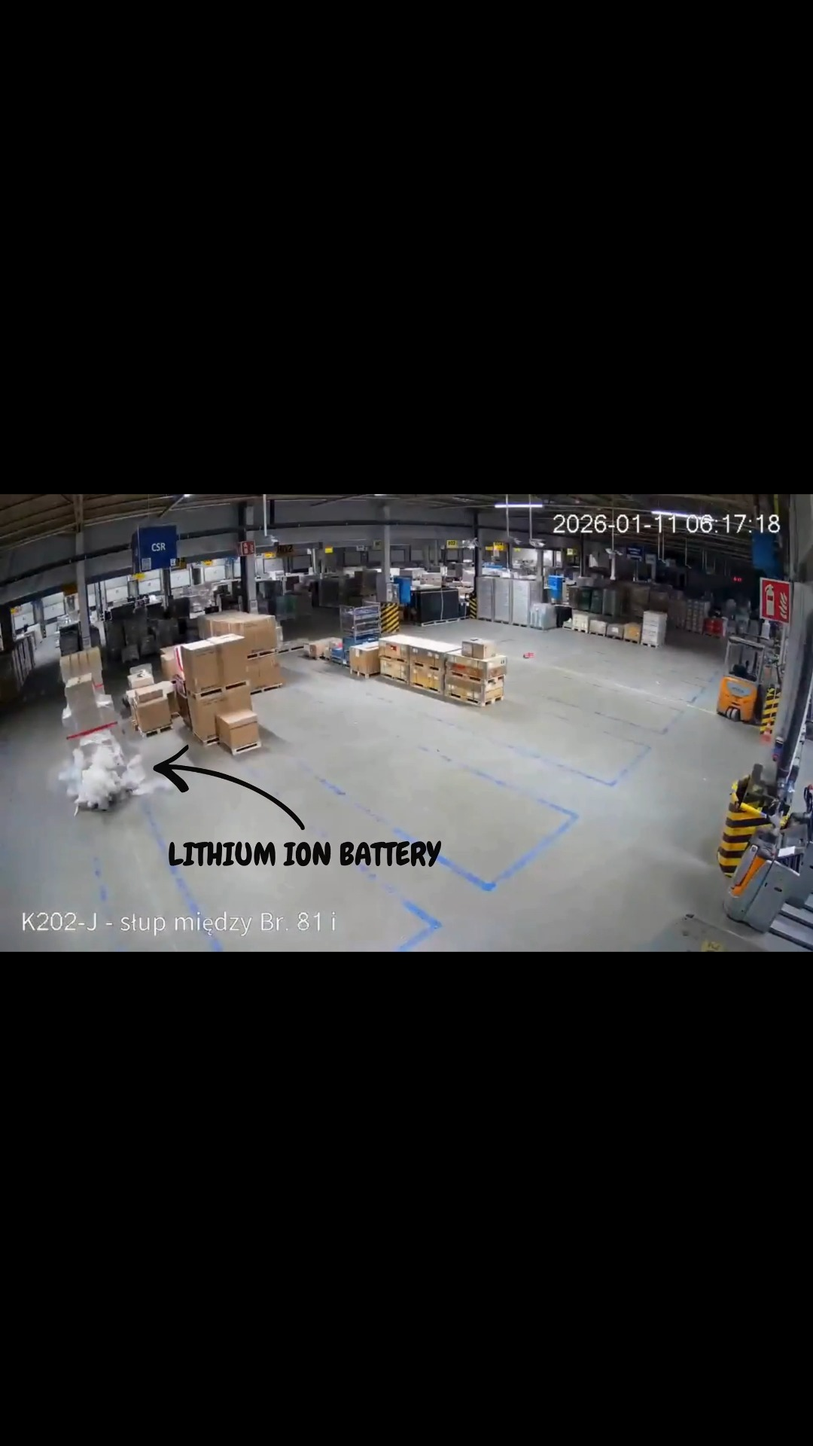smoke: (68, 732, 161, 813)
